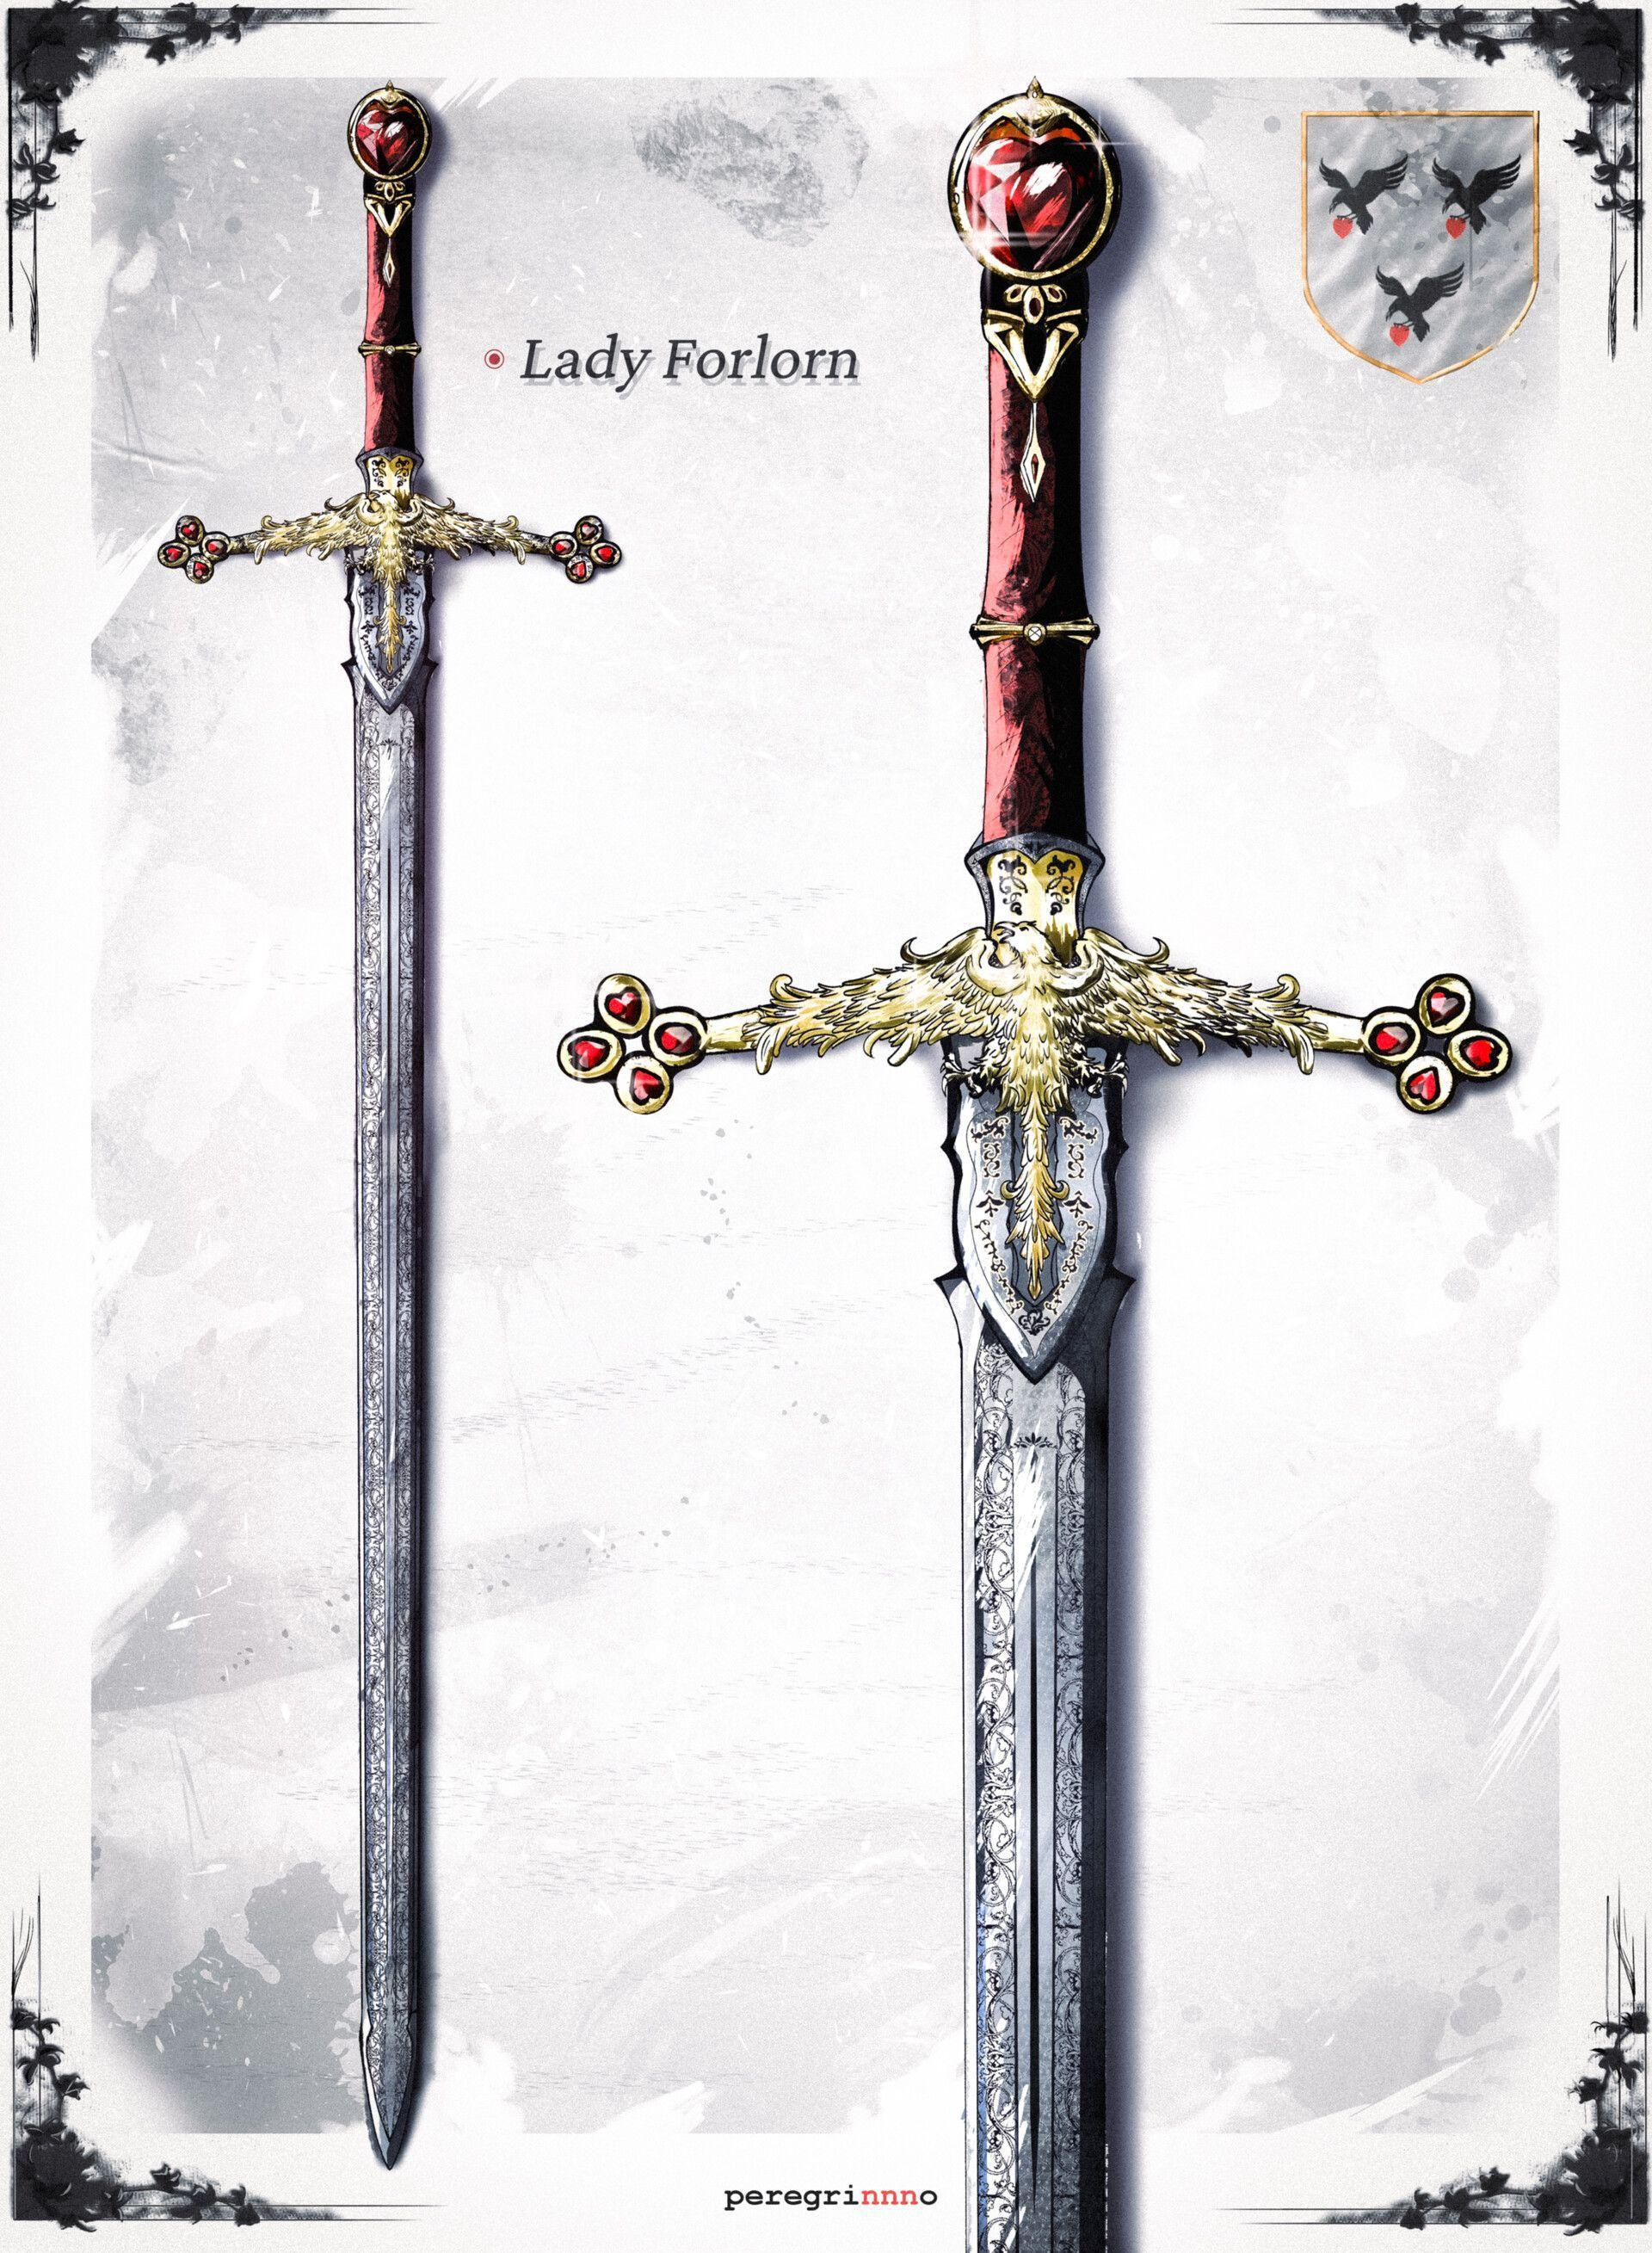espada: (559, 80, 1510, 2253), (157, 84, 621, 2157)
